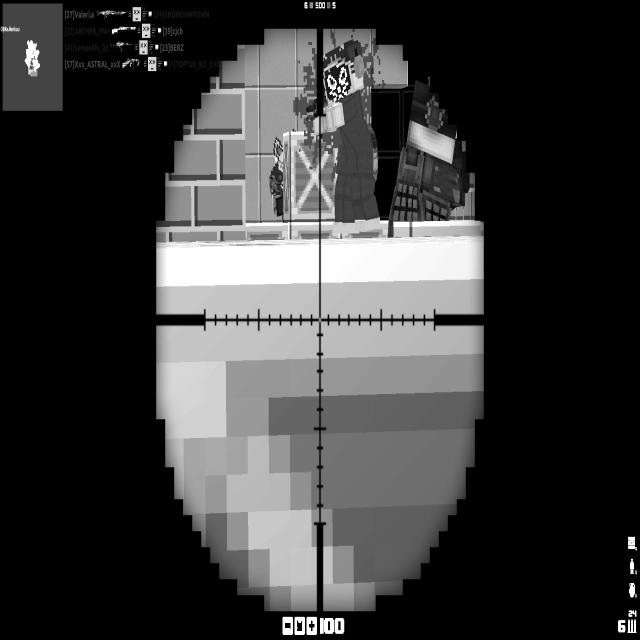Head: (408, 77, 461, 167), (322, 37, 364, 108), (275, 147, 284, 187)
Player: (304, 37, 382, 236), (389, 77, 468, 220)
